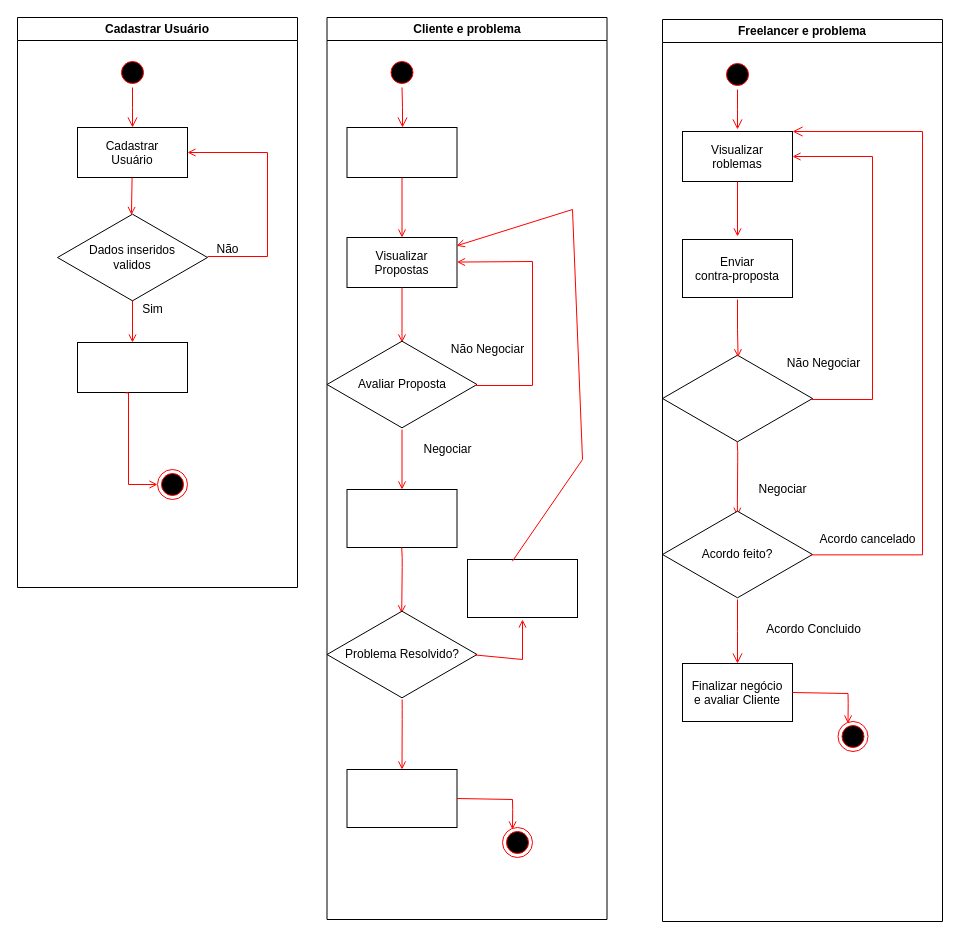
Some shapes in this 960 by 939 pixel diagram are drawn without their labels. Here are the shapes that lost their labels. From the top down, the centre of each, then its label:
[401,152]: Criar Problema
[132,367]: Cadastro Realizado
[737,398]: Negociação solicitada
[401,518]: Mudar status do problema para Em Negociação
[522,588]: Mudar status do problema para Aguardando Propostas
[401,798]: Finalizar Problema e avaliar Freelancer
